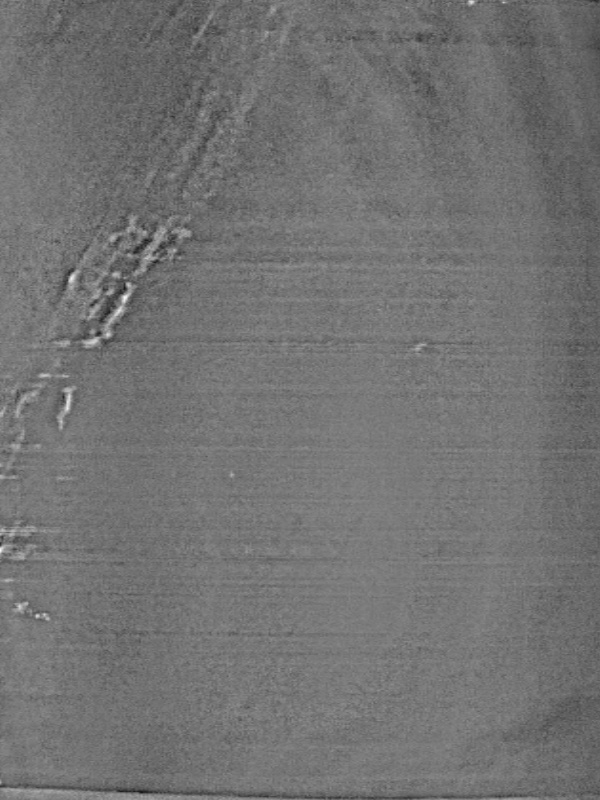splice_vulcanized: (1, 1, 291, 510)
